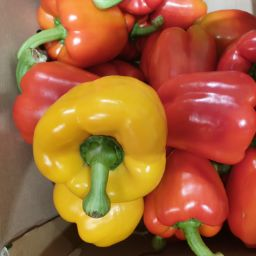Bell pepper: (14, 3, 247, 256), (14, 49, 167, 220), (122, 1, 256, 85), (151, 63, 256, 168), (151, 141, 237, 256), (49, 181, 152, 249), (30, 2, 133, 67), (221, 128, 256, 256)
